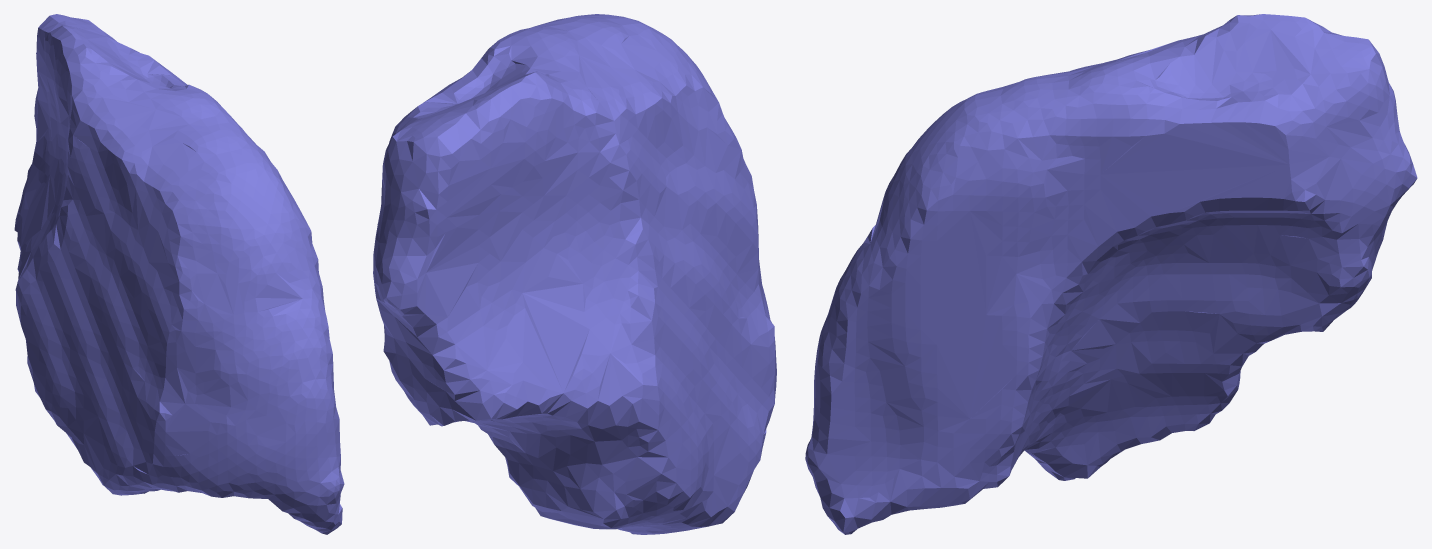
File: Model_10243_LH__Lateral_septal_nuclei_(LS).obj
3 renders of one model, left to right at view 1: azimuth 30°, elevation 25°; view 2: azimuth 150°, elevation 25°; view 3: azimuth 270°, elevation 25°, orthographic. The views are drawn at different scales.
Size of the model in its own units: 1.52 by 3.19 by 3.75.
